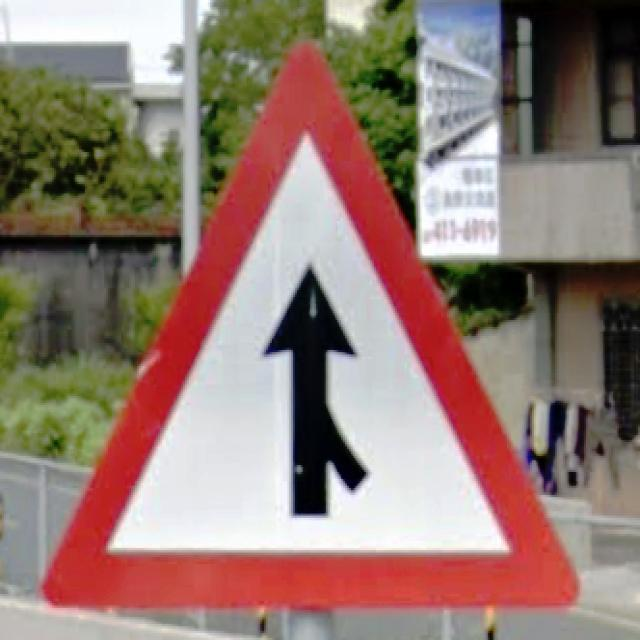rightmerge: (40, 39, 576, 617)
